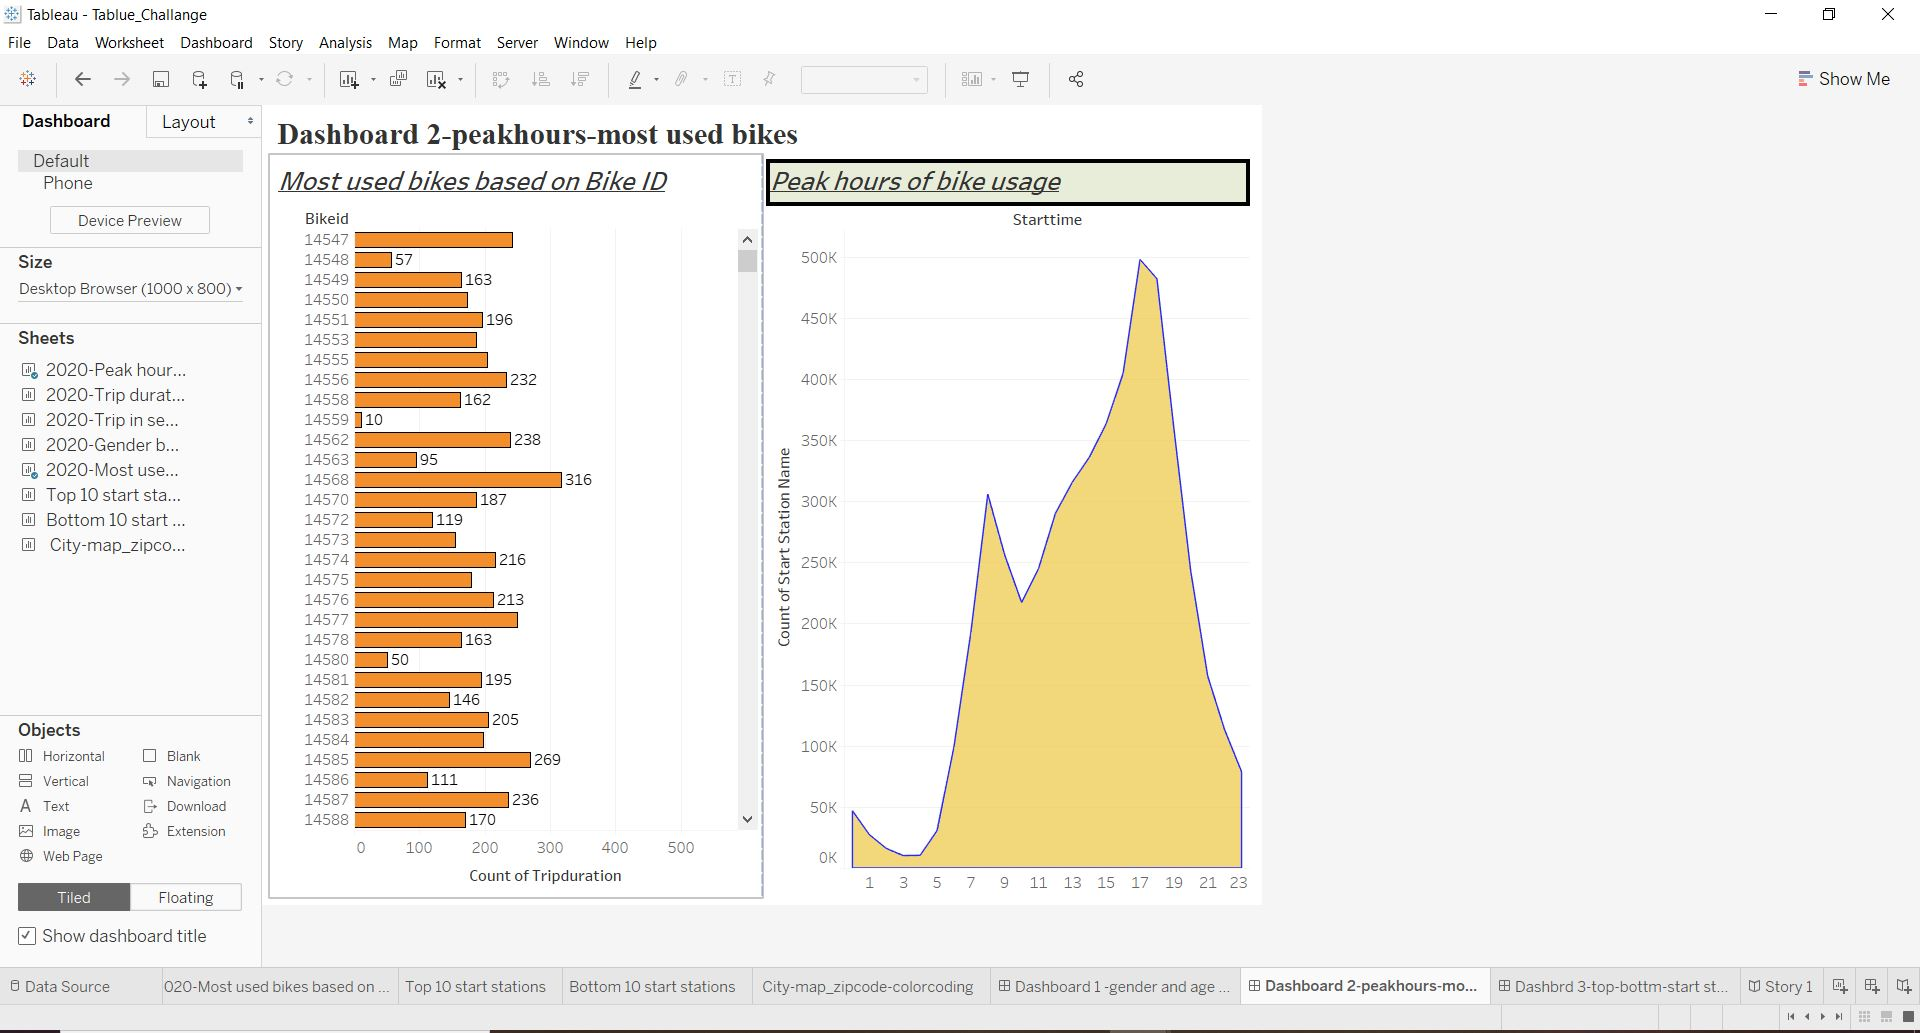

What the dashboard file says about the page in this screenshot:
{"tool":"tableau","page":{"name":"Dashboard 2-peakhours-most used bikes","canvas":[1000,800],"ordinal":1},"visuals":[{"type":"worksheet","box":[0,0,1000,800]},{"type":"worksheet","param":"vert","box":[8,8,984,784]},{"type":"worksheet","box":[8,8,984,42]},{"type":"worksheet","box":[8,50,984,742]},{"type":"worksheet","title":"2020-Most used bikes based on Bike ID","mark":"Automatic","rows":["bikeid"],"cols":["tripduration"],"box":[8,50,492,742]},{"type":"worksheet","title":"2020-Peak hours of bike usage","mark":"Area","rows":["start station name"],"cols":["starttime"],"box":[500,50,492,742]}]}

Visuals, with their boxes on the page's 1000x800 design canvas (x1, y1, x2, y2). These are canvas units, not pixel positions in the 1920x1033 screenshot, which may show the page scaled, cropped or inside an application window:
worksheet: 0/0/1000/800
worksheet: 8/8/992/792
worksheet: 8/8/992/50
worksheet: 8/50/992/792
"2020-Most used bikes based on Bike ID" worksheet: 8/50/500/792
"2020-Peak hours of bike usage" worksheet (Area marks): 500/50/992/792
